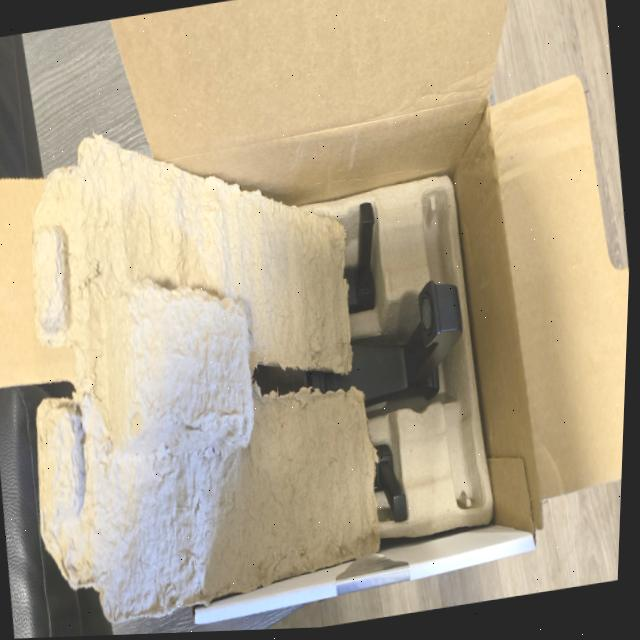9o: (251, 281, 461, 411), (343, 202, 374, 313), (373, 444, 406, 522)
